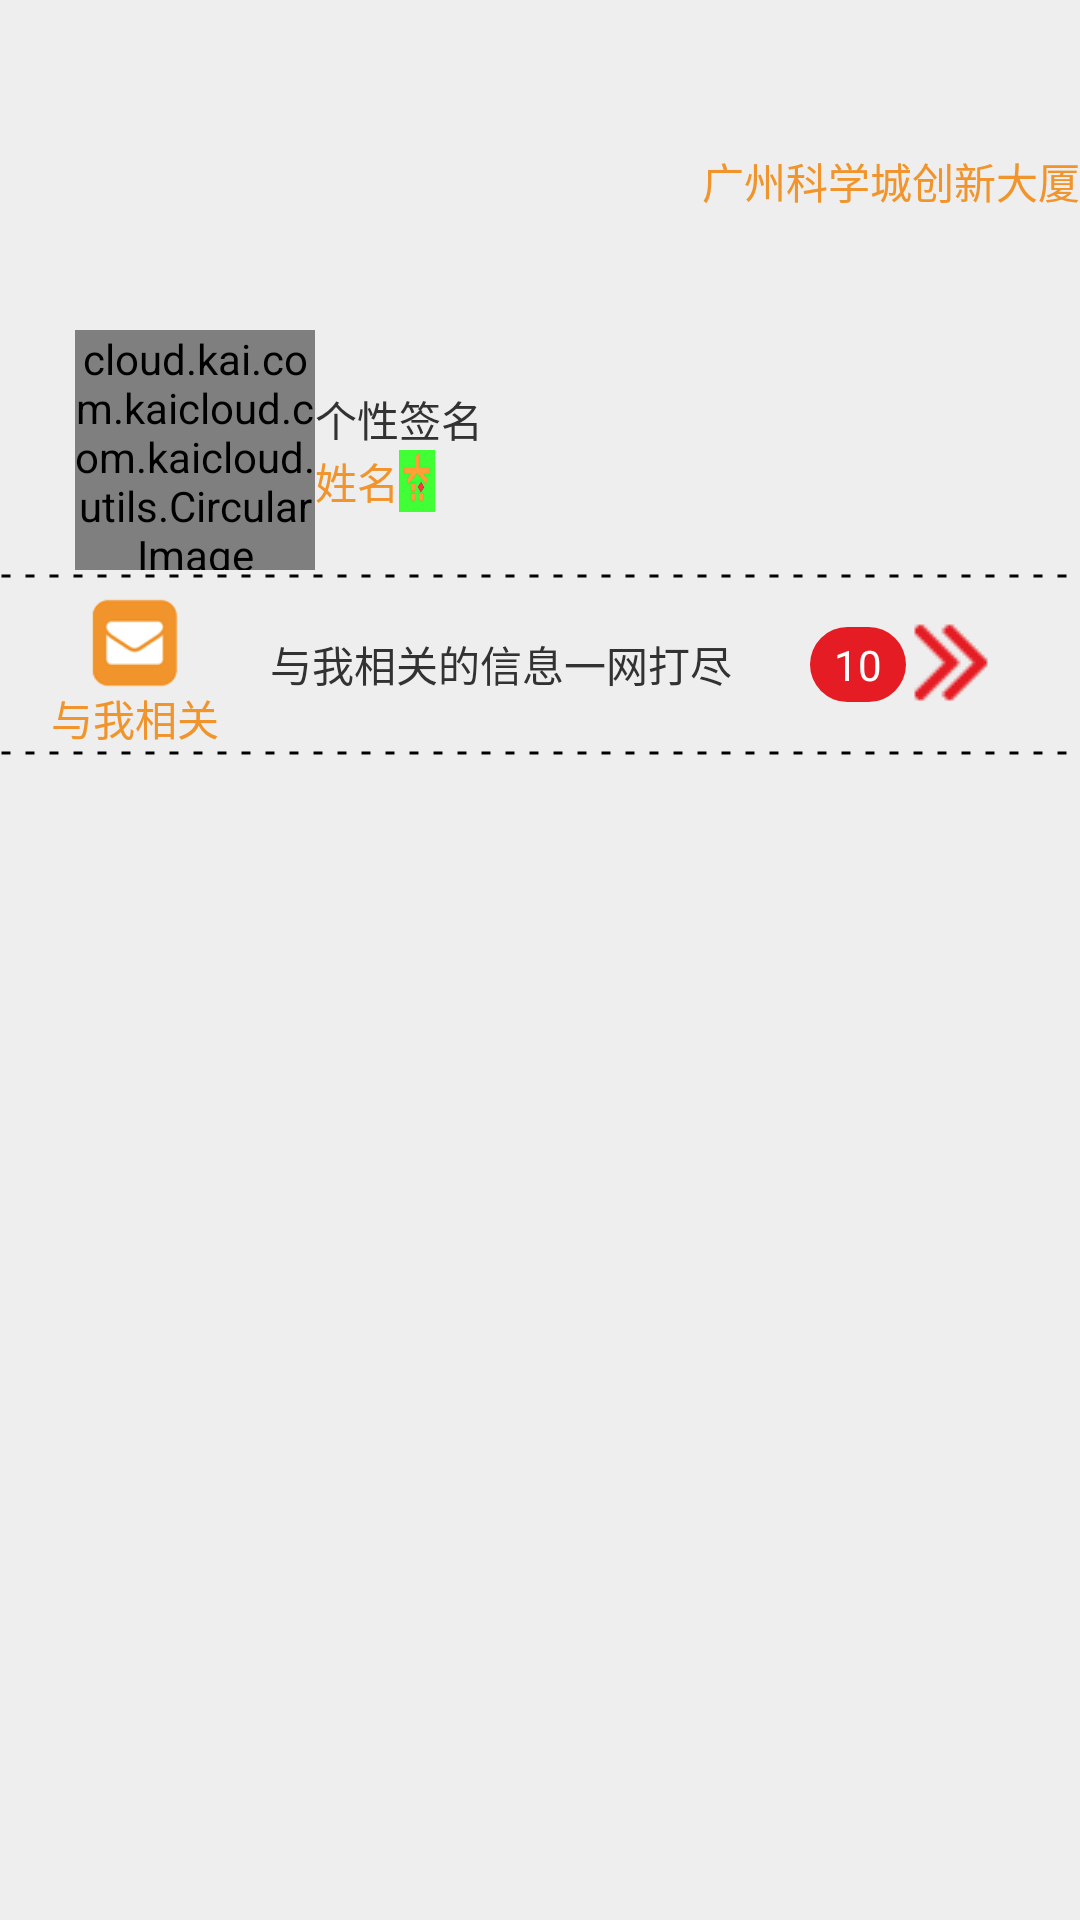

Named icons in this screenshot (1080 x 1920) and their bounding boxes, (x1, y1, x2, y2):
home more: (914, 624, 988, 701)
